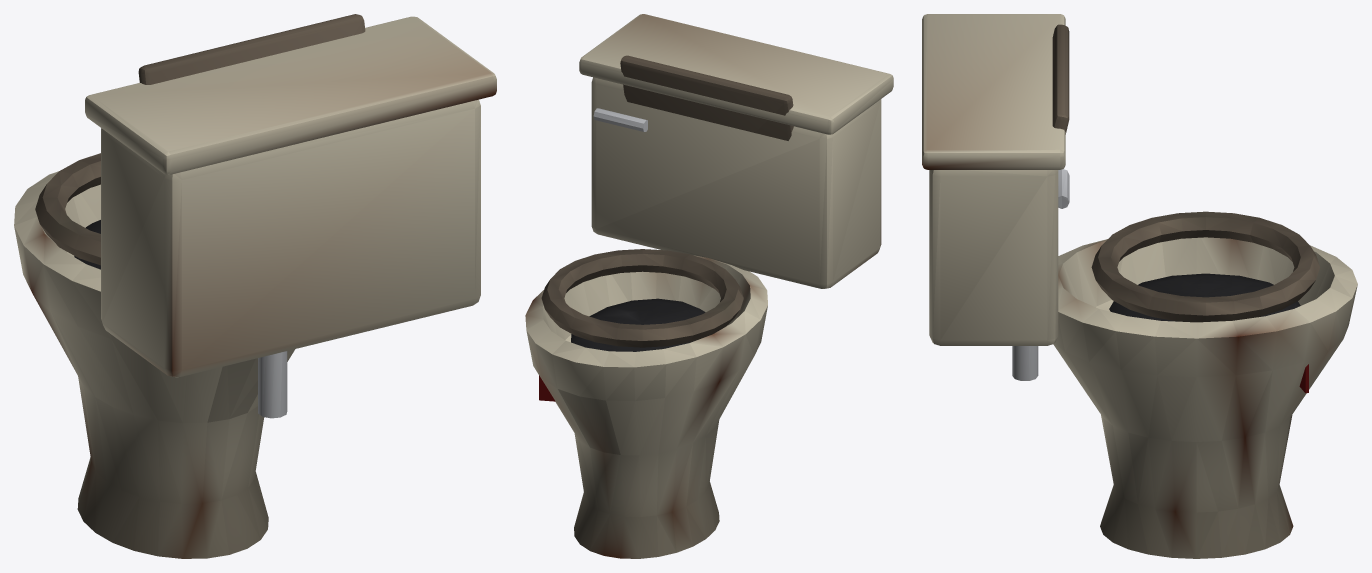
File: Toilet.glb
3 views of the same model, side by side, from view 1: azimuth 30°, elevation 25°; view 2: azimuth 150°, elevation 25°; view 3: azimuth 270°, elevation 25° (orthographic). The views are drawn at different scales.
Parts seen in each view (by area): view 1: Toilet_enamel, Toilet_wood_old, Toilet_chrome; view 2: Toilet_enamel, Toilet_wood_old, Toilet_metal_dark, Toilet_chrome; view 3: Toilet_enamel, Toilet_wood_old, Toilet_metal_dark, Toilet_chrome.
Part boxes in pixels (<box>): Toilet_enamel: <box>14,16,496,558</box>; Toilet_wood_old: <box>35,14,365,265</box>; Toilet_chrome: <box>258,351,287,418</box>; Toilet_enamel: <box>525,14,893,558</box>; Toilet_wood_old: <box>541,55,793,347</box>; Toilet_metal_dark: <box>571,298,705,351</box>; Toilet_chrome: <box>593,108,647,131</box>; Toilet_enamel: <box>922,14,1357,558</box>; Toilet_wood_old: <box>1052,24,1319,322</box>; Toilet_metal_dark: <box>1109,273,1300,321</box>; Toilet_chrome: <box>1012,169,1069,380</box>.
Size of the model in its own units: 1.8 by 2.74 by 2.37.
